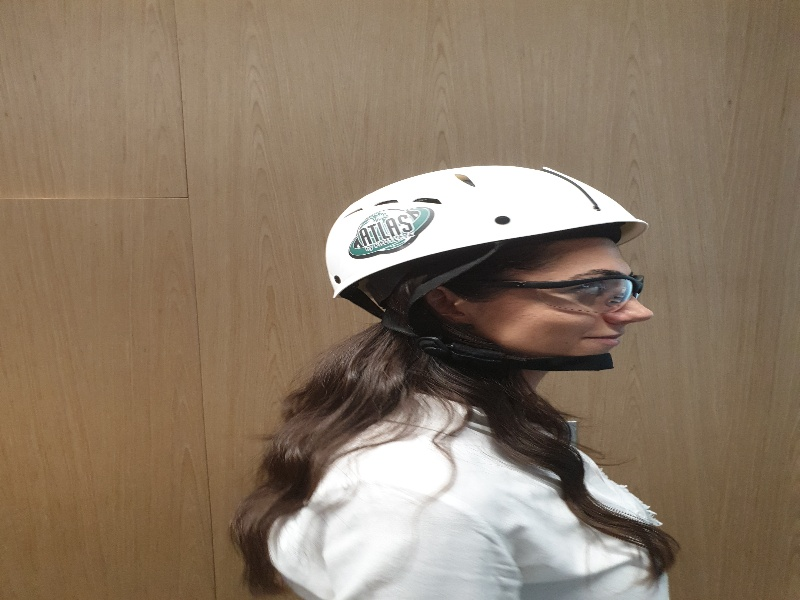Baret: (324, 164, 649, 284)
Gozluk: (476, 274, 644, 305)
